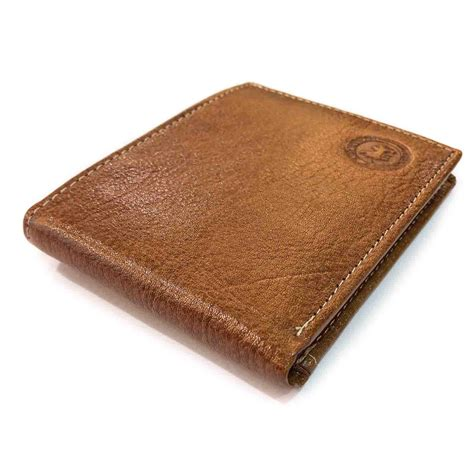cuero: (21, 79, 464, 388)
